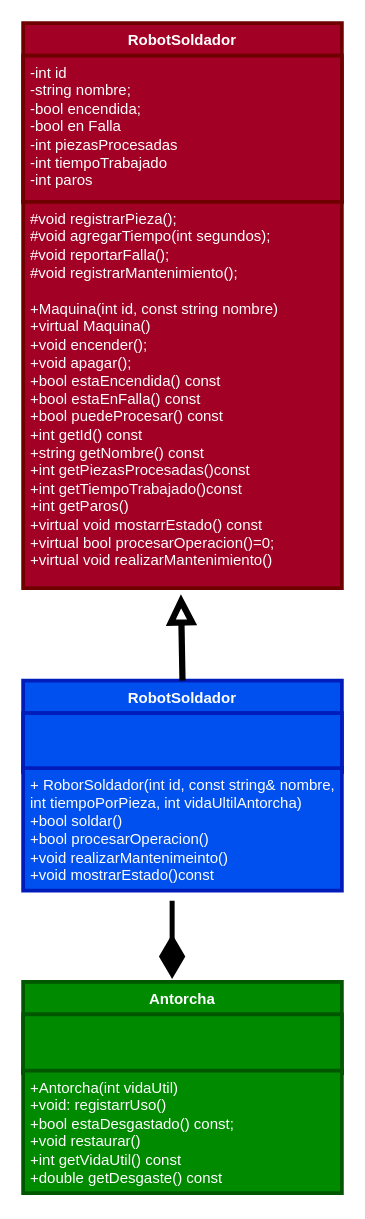
Some shapes in this 365 by 1219 pixel diagram are drawn without their labels. Each missing label, with the centre of its shape:
-Antorcha: antorcha -int tiempoPorPieza: point (182, 742)
-int vidaUtil -double desgaste: point (182, 1043)
